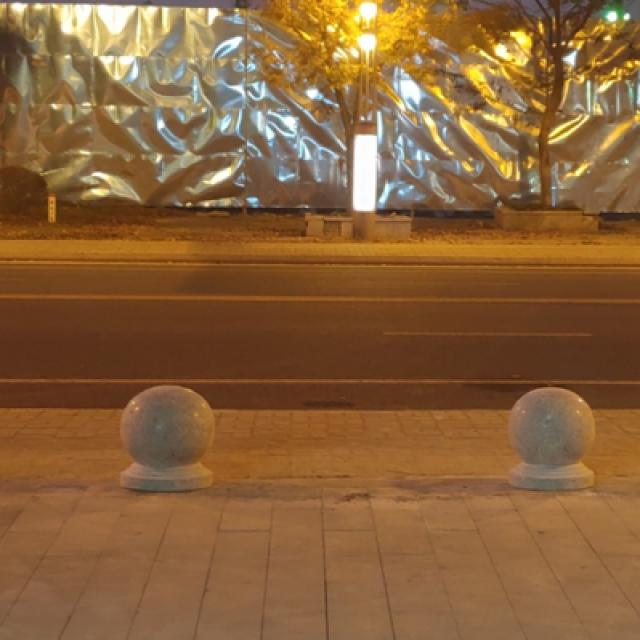spherical_roadblock: (114, 380, 218, 490), (505, 384, 595, 488)
